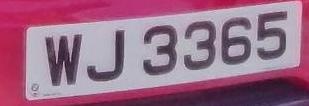3: (138, 22, 182, 78), (180, 17, 220, 76)
5: (251, 6, 292, 68)
6: (217, 10, 255, 70)
J: (83, 26, 133, 88)
W: (42, 26, 83, 93)
